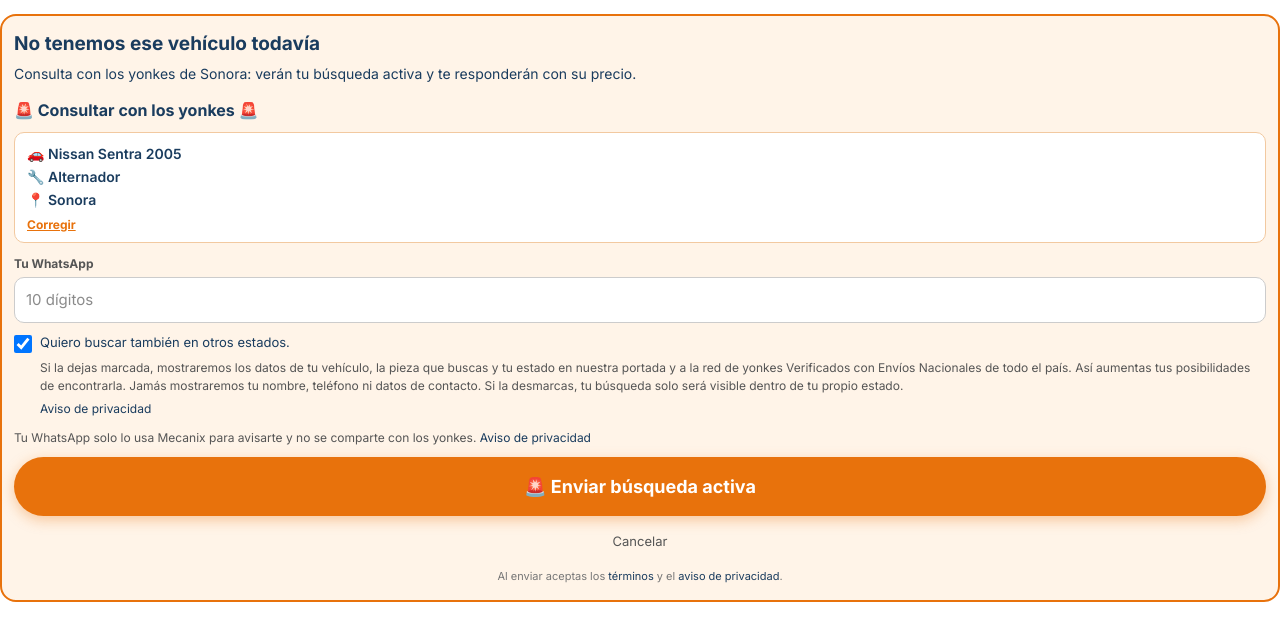
AlertaUnPaso con abiertoDeEntrada › "Cancelar" regresa al recuadro con el botón, como hoy
The image size is (1280, 619).
Click the button "Cancelar" at (640, 542), box [14,524,1266,560]
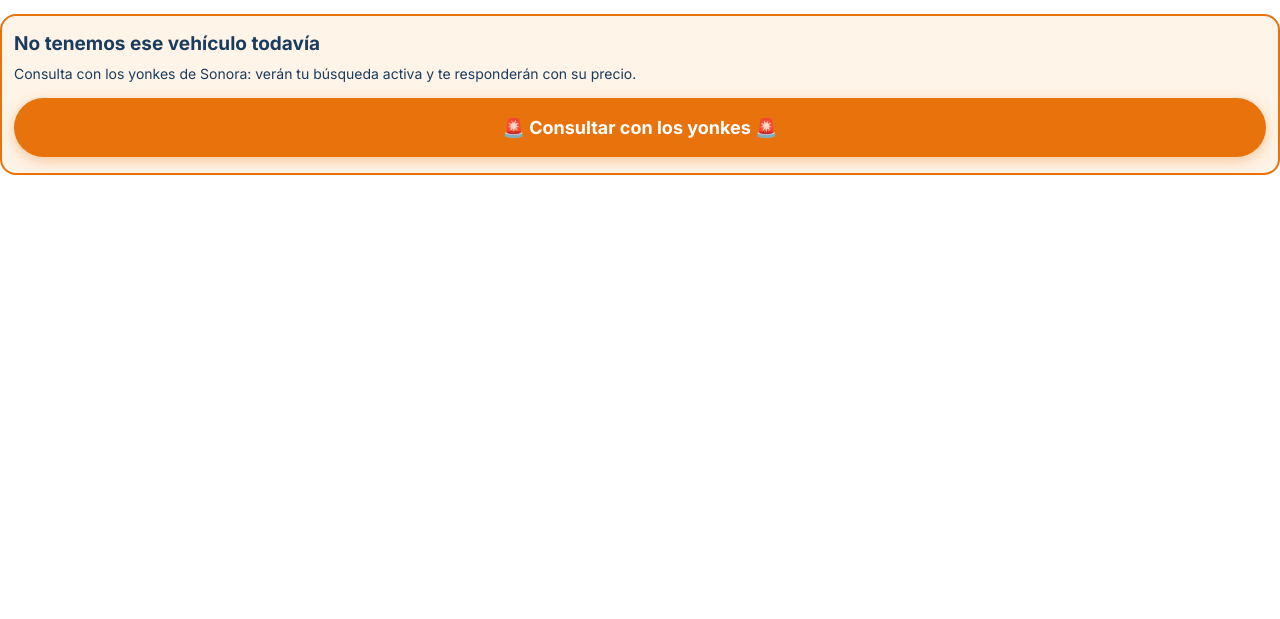
Check: the button "🚨 Consultar con los yonkes 🚨" is shown, box [14,98,1266,157]
Check: the label labelled "Tu WhatsApp" is gone
